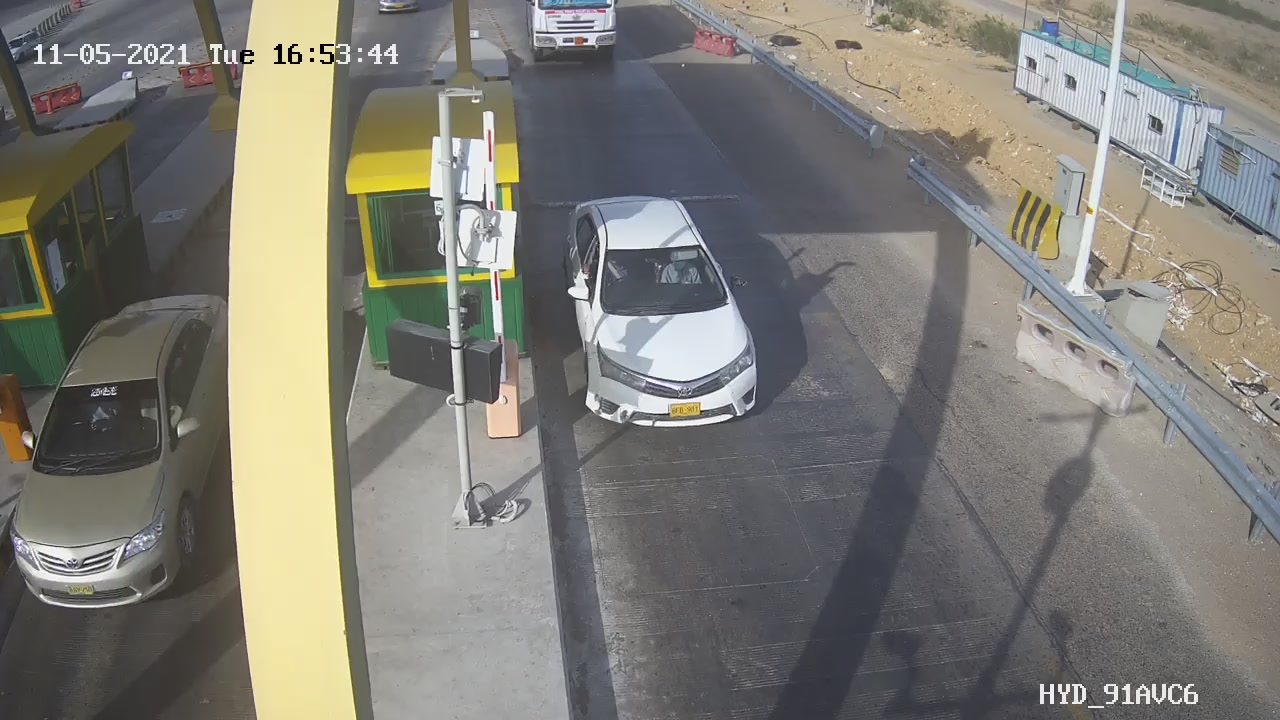F1: (539, 179, 787, 451)
